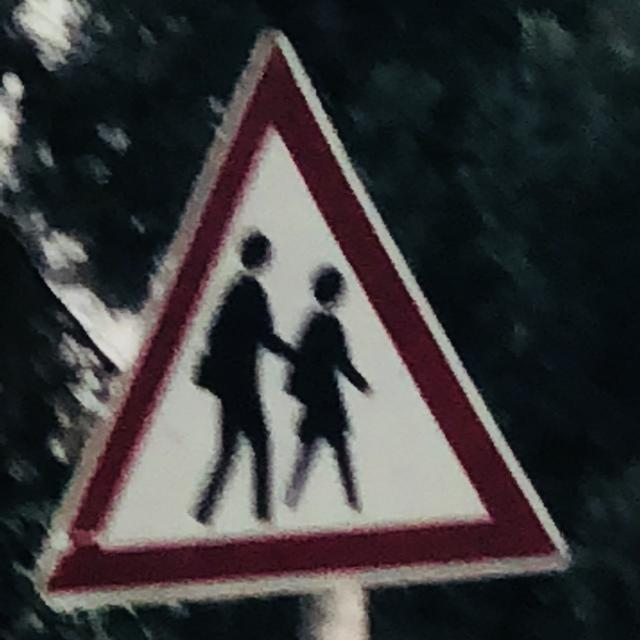school ahead: (36, 40, 574, 593)
